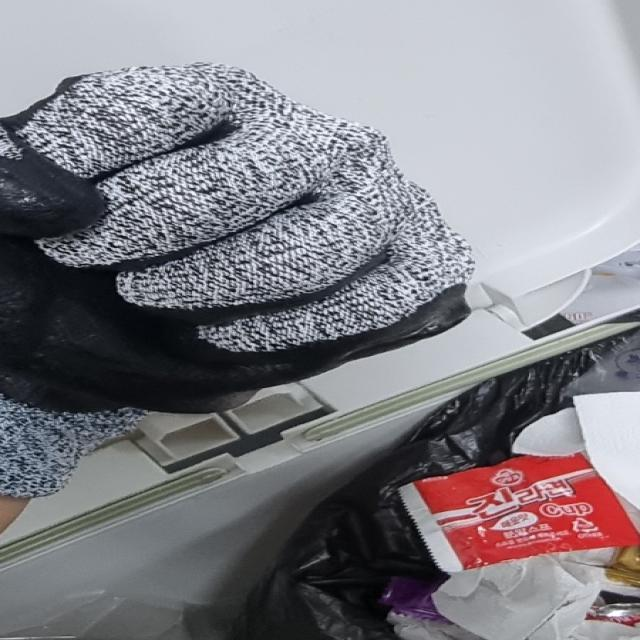Gloves: (0, 55, 485, 529)
